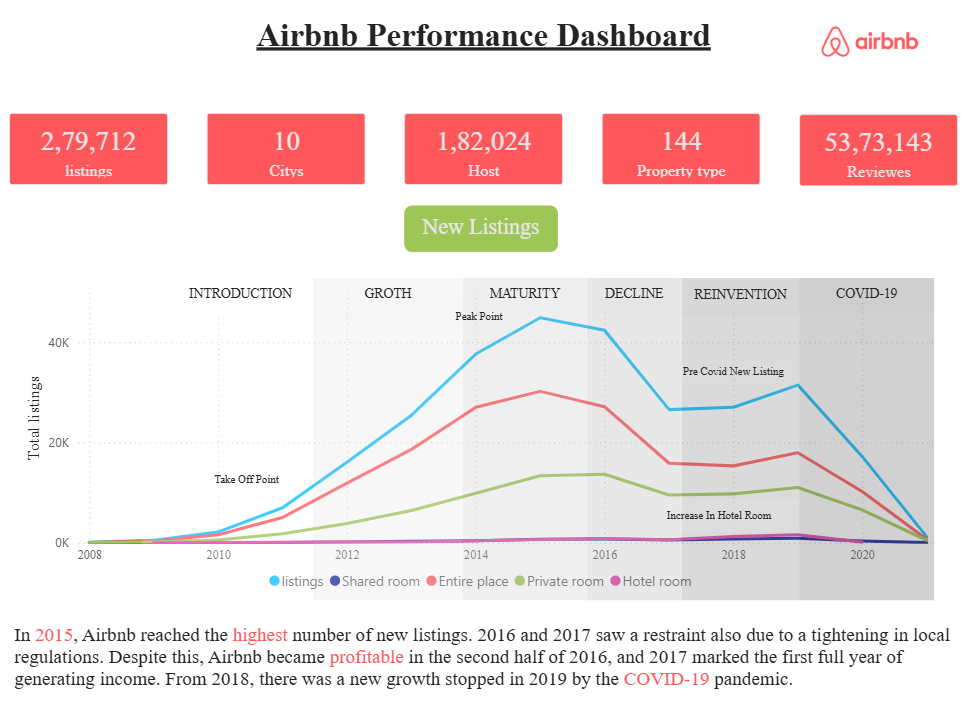

This screenshot's page, from the dashboard's own definition file:
{"tool":"powerbi","page":{"name":"Overview","canvas":[960,720],"ordinal":0},"visuals":[{"type":"textbox","box":[244.6,22,470.8,61.1],"z":0},{"type":"image","box":[755.7,0,204.2,105.2],"z":1000},{"type":"card","fields":{"Values":["CountNonNull(Listings.listing_id)"]},"box":[15.8,121.8,155,70],"z":2000},{"type":"card","fields":{"Values":["Count(Listings.host_id)"]},"box":[402.1,122.2,155.6,70],"z":3000},{"type":"card","fields":{"Values":["Count(Listings.city)"]},"box":[208.6,122.2,155.6,70],"z":4000},{"type":"card","fields":{"Values":["Count(Listings.property_type)"]},"box":[595.5,122.2,155.6,70],"z":5000},{"type":"card","fields":{"Values":["CountNonNull(Reviews.reviewer_id)"]},"box":[788.9,123.3,155.6,70],"z":6000},{"type":"lineChart","fields":{"Category":["Listings.host_since.Variation.Date Hierarchy.Year","Listings.host_since.Variation.Date Hierarchy.Quarter","Listings.host_since.Variation.Date Hierarchy.Month","Listings.host_since.Variation.Date Hierarchy.Day"],"Y":["CountNonNull(Listings.listing_id)","Listings.Shared room","Listings.Entire place","Listings.Private room","Listings.Hotel room"]},"box":[26.9,283.7,903.7,315.5],"z":7000},{"type":"textbox","box":[402.3,212.8,150.4,45.2],"z":8000},{"type":"shape","box":[145.5,283.7,167.5,315.5],"z":9000},{"type":"shape","box":[313,283.7,146.7,315.5],"z":10000},{"type":"shape","box":[580.8,283.7,92.9,315.5],"z":11000},{"type":"shape","box":[459.8,283.7,121.1,315.5],"z":12000},{"type":"shape","box":[673.8,283.7,114.9,315.5],"z":13000},{"type":"shape","box":[788.7,283.7,132.1,315.5],"z":14000},{"type":"textbox","box":[171.2,283.7,141.8,37.9],"z":15000},{"type":"textbox","box":[313,283.7,146.7,41.6],"z":16000},{"type":"textbox","box":[459.8,283.7,121.1,29.3],"z":17000},{"type":"textbox","box":[591.9,283.7,70.9,31.8],"z":18000},{"type":"textbox","box":[673.8,284.9,114.9,37.9],"z":19000},{"type":"textbox","box":[788.7,283.7,132.1,34.2],"z":20000},{"type":"textbox","box":[211.6,464.7,74.6,35.5],"z":21000},{"type":"textbox","box":[447.6,305.7,61.1,33],"z":22000},{"type":"textbox","box":[670.1,359.5,118.6,31.8],"z":23000},{"type":"textbox","box":[654.2,500.1,134.5,31.8],"z":24000},{"type":"textbox","box":[15.9,617.5,928.1,89.3],"z":25000}]}

Visuals, with their boxes in screenshot pixels (x1, y1, x2, y2), scaled from the page's 960x720 canvas onto the 967x717 screenshot:
textbox: x1=246 y1=22 x2=721 y2=83
image: x1=761 y1=0 x2=966 y2=105
card - CountNonNull(Listings.listing_id): x1=16 y1=121 x2=172 y2=191
card - Count(Listings.host_id): x1=405 y1=122 x2=562 y2=191
card - Count(Listings.city): x1=210 y1=122 x2=367 y2=191
card - Count(Listings.property_type): x1=600 y1=122 x2=757 y2=191
card - CountNonNull(Reviews.reviewer_id): x1=795 y1=123 x2=951 y2=192
lineChart - Listings.host_since.Variation.Date Hierarchy.Year x Listings.host_since.Variation.Date Hierarchy.Quarter: x1=27 y1=283 x2=937 y2=597
textbox: x1=405 y1=212 x2=557 y2=257
shape: x1=147 y1=283 x2=315 y2=597
shape: x1=315 y1=283 x2=463 y2=597
shape: x1=585 y1=283 x2=679 y2=597
shape: x1=463 y1=283 x2=585 y2=597
shape: x1=679 y1=283 x2=794 y2=597
shape: x1=794 y1=283 x2=928 y2=597
textbox: x1=172 y1=283 x2=315 y2=320
textbox: x1=315 y1=283 x2=463 y2=324
textbox: x1=463 y1=283 x2=585 y2=312
textbox: x1=596 y1=283 x2=668 y2=314
textbox: x1=679 y1=284 x2=794 y2=321
textbox: x1=794 y1=283 x2=928 y2=317
textbox: x1=213 y1=463 x2=288 y2=498
textbox: x1=451 y1=304 x2=512 y2=337
textbox: x1=675 y1=358 x2=794 y2=390
textbox: x1=659 y1=498 x2=794 y2=530
textbox: x1=16 y1=615 x2=951 y2=704
